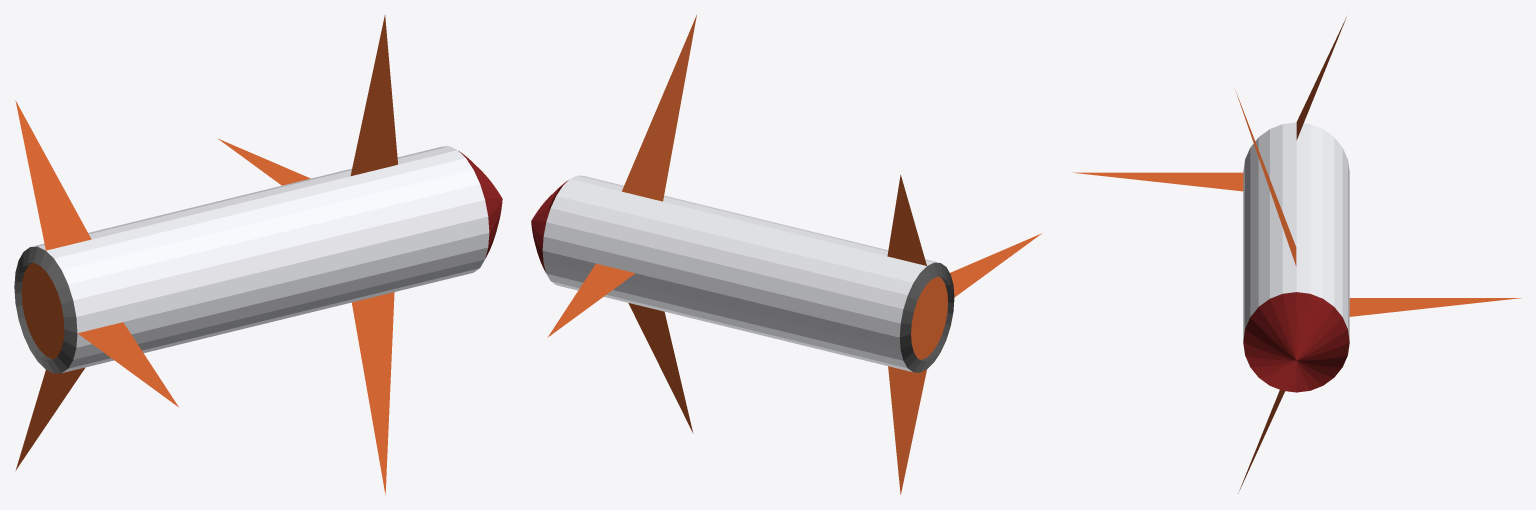
The model's file is Homing_Missile.obj.
3 views of the same model, side by side, from view 1: azimuth 30°, elevation 25°; view 2: azimuth 150°, elevation 25°; view 3: azimuth 270°, elevation 25° (orthographic). The views are drawn at different scales.
Parts seen in each view (by area): view 1: Mesh1 Group2 Group1 Model; view 2: Mesh1 Group2 Group1 Model; view 3: Mesh1 Group2 Group1 Model.
Part boxes in pixels (x1,y1,x2,y2): Mesh1 Group2 Group1 Model: [14, 15, 502, 494]; Mesh1 Group2 Group1 Model: [531, 15, 1041, 494]; Mesh1 Group2 Group1 Model: [1073, 17, 1520, 493].
Bounding box in the file's own units: 5.12 × 5.12 × 5.12.
